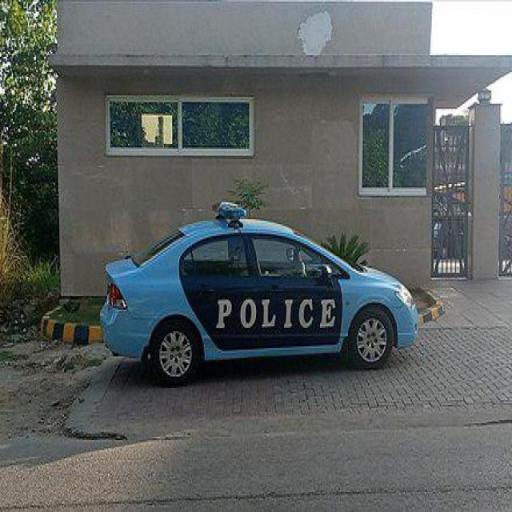Ambulance: (102, 203, 420, 376)
